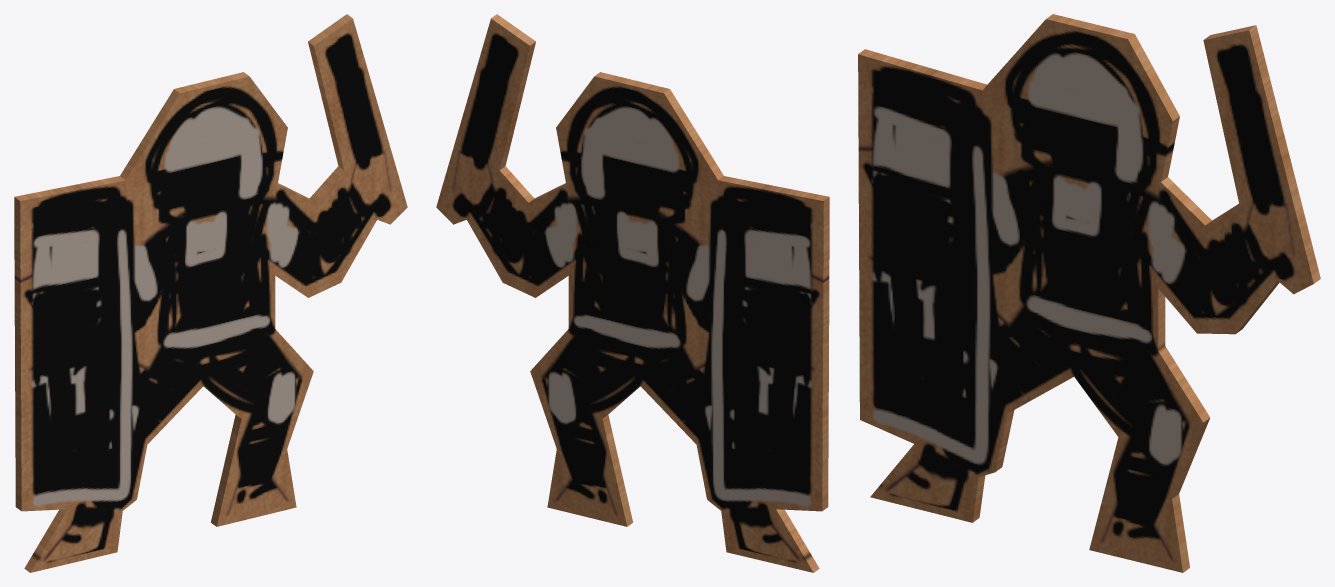
The model's file is soldier_3.FBX.
The picture shows the model from 3 angles, left to right: view 1: azimuth 30°, elevation 25°; view 2: azimuth 150°, elevation 25°; view 3: azimuth 330°, elevation 25°; orthographic projection. The views are drawn at different scales.
Parts seen in each view (by area): view 1: soldier_3; view 2: soldier_3; view 3: soldier_3.
Part boxes in pixels (bbox=[...]): soldier_3: bbox=[14, 14, 407, 572]; soldier_3: bbox=[436, 14, 829, 572]; soldier_3: bbox=[858, 14, 1320, 572].
Bounding box in the file's own units: 262 × 308 × 7.
